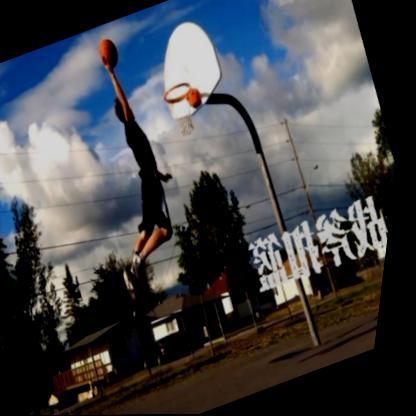basketball: (93, 33, 125, 69)
rim: (159, 80, 210, 139)
